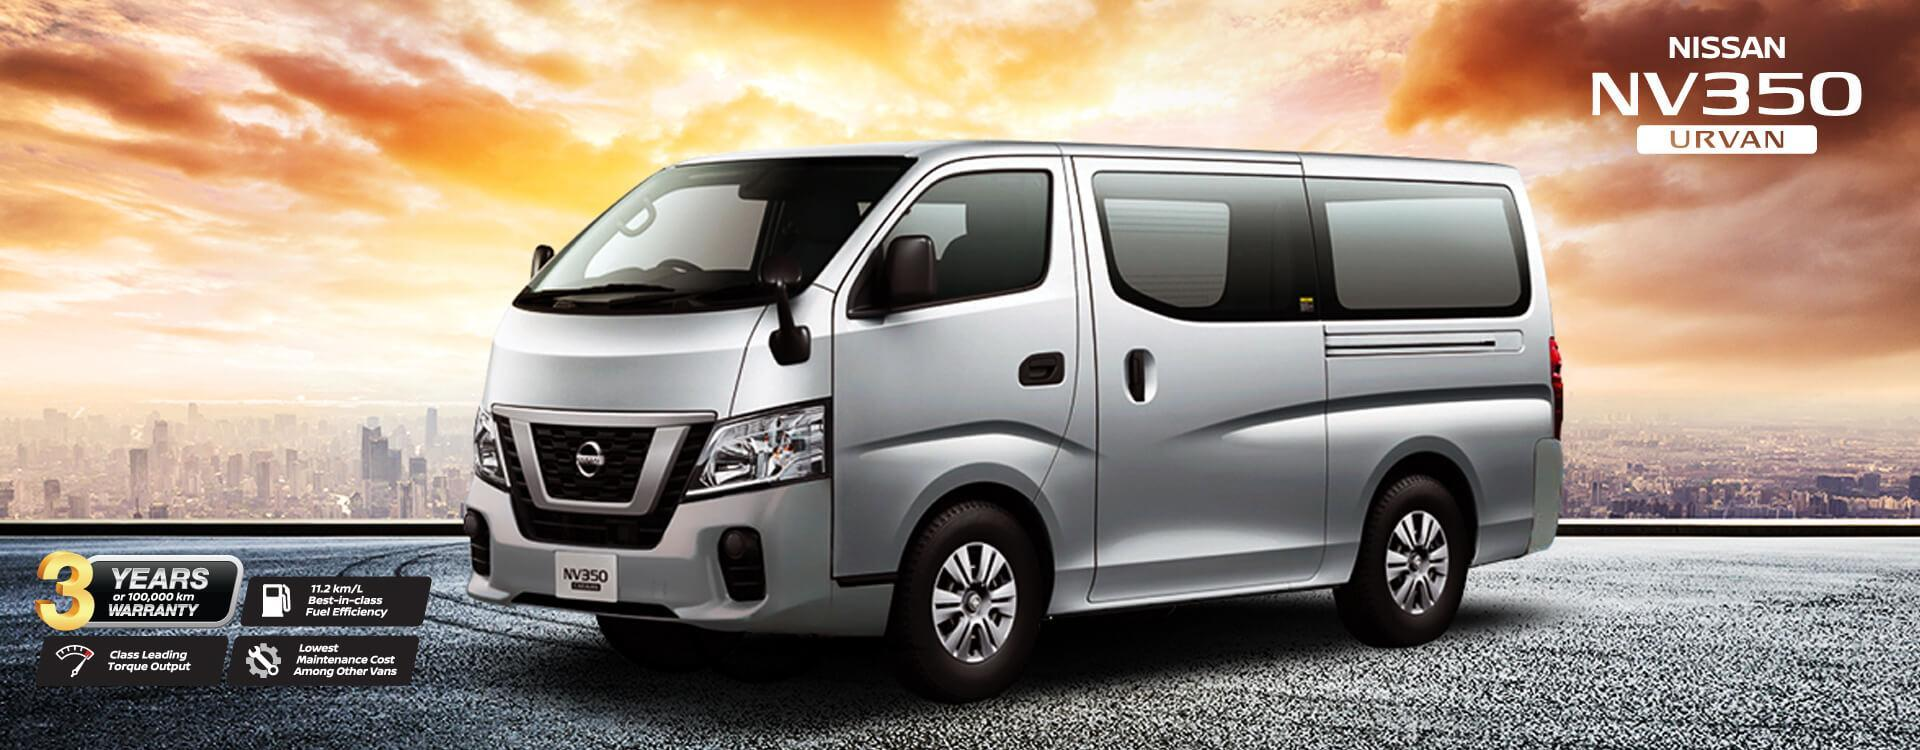car: (465, 136, 1566, 684)
